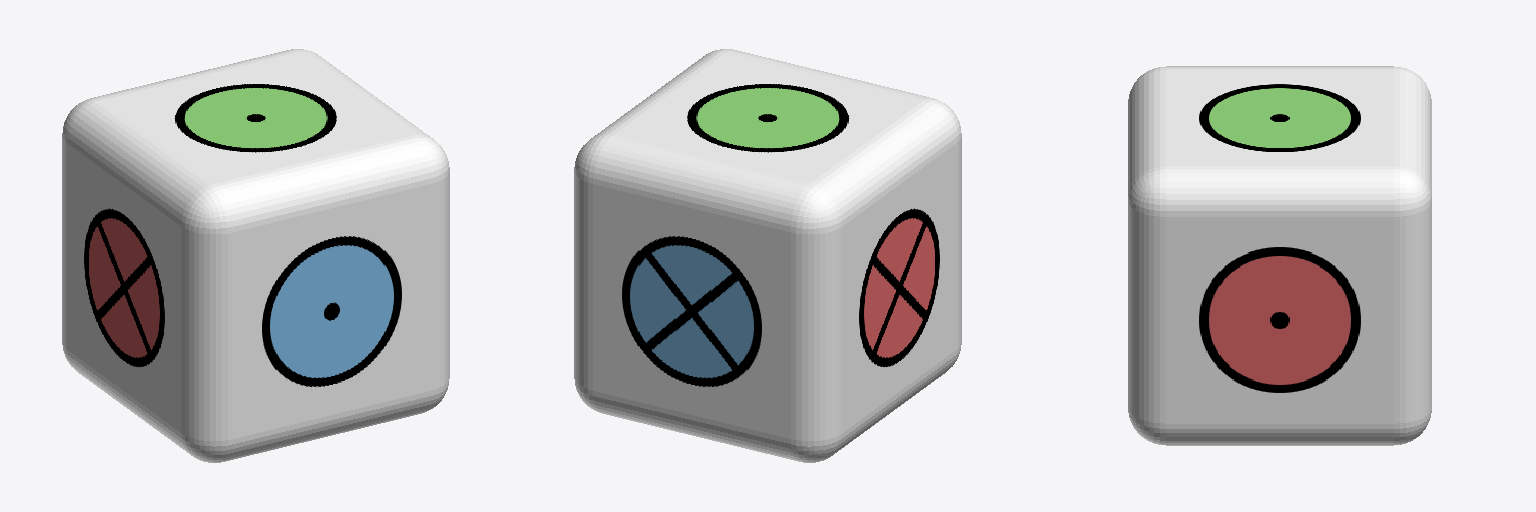
3 renders of one model, left to right at view 1: azimuth 30°, elevation 25°; view 2: azimuth 150°, elevation 25°; view 3: azimuth 270°, elevation 25°, orthographic.
Visible parts, largest first — view 1: Cube; view 2: Cube; view 3: Cube.
Part boxes in pixels (bbox=[...]): Cube: bbox=[62, 49, 449, 462]; Cube: bbox=[574, 49, 961, 462]; Cube: bbox=[1128, 66, 1431, 445].
Bounding box in the file's own units: 2 × 2 × 2.
1 materials, 1 textured.